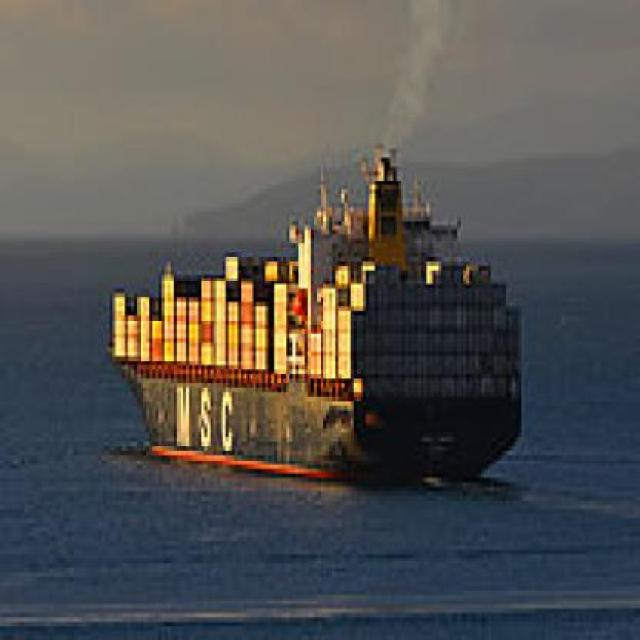container: (98, 132, 535, 515)
